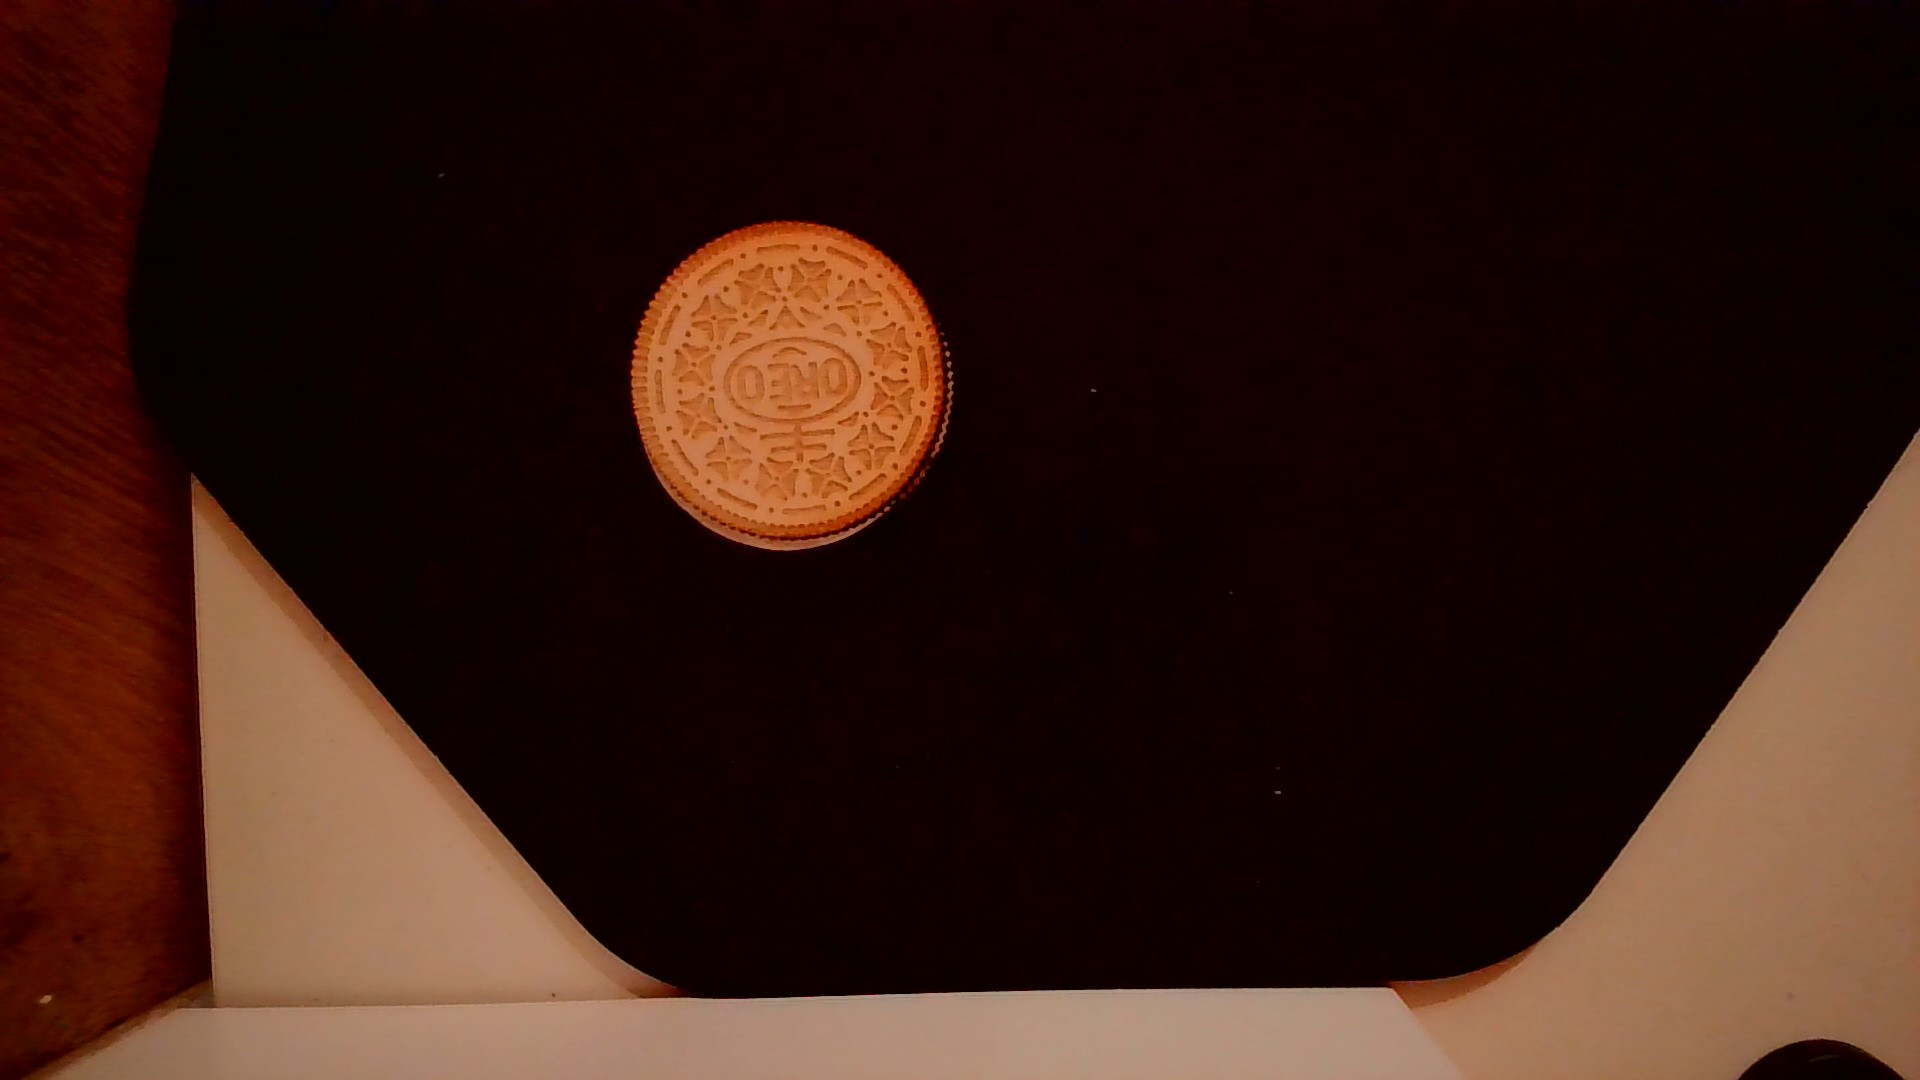Décalé: (659, 495, 894, 558)
Oréo: (624, 215, 964, 550)
